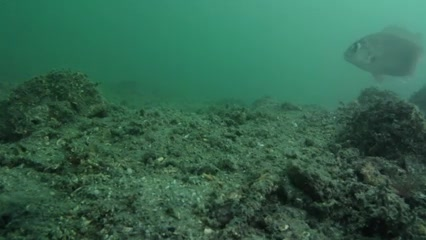smallfish: (334, 16, 417, 89)
